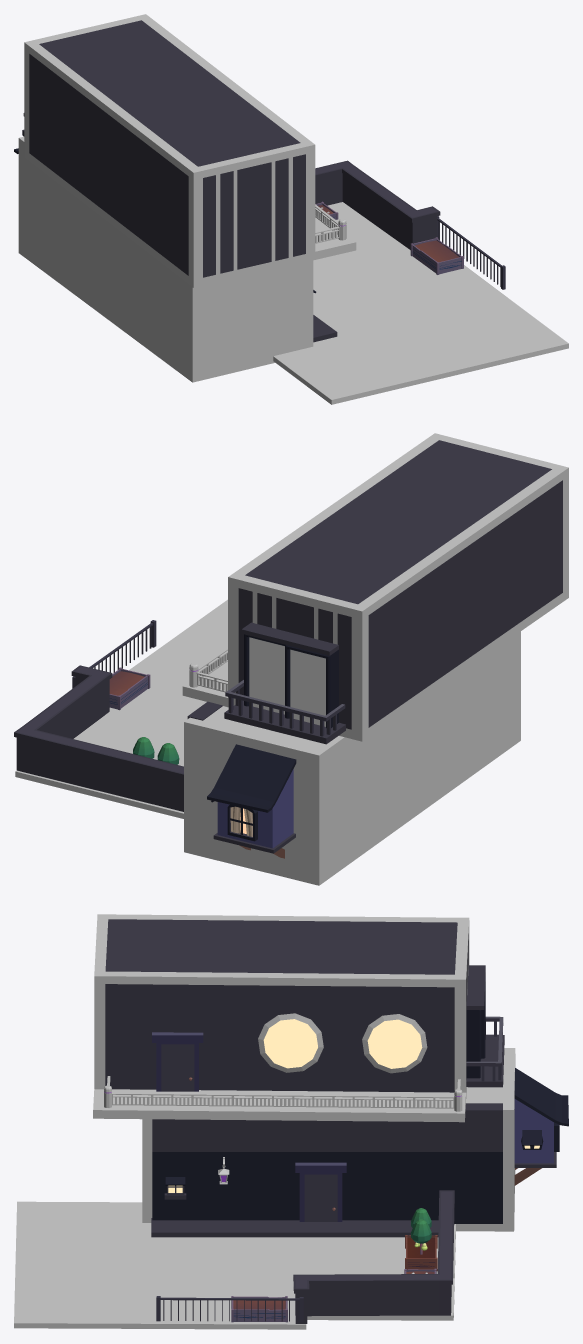
The model's file is CMHome302.fbx.
3 renders of one model, top to bottom at view 1: azimuth 30°, elevation 25°; view 2: azimuth 150°, elevation 25°; view 3: azimuth 270°, elevation 25°, orthographic. The views are drawn at different scales.
Parts seen in each view (by area): view 1: Crates.088, Crates.089, ConcreteSlab.001, Fence.017, Garden.002, BalconyRailing.041; view 2: Crates.088, Crates.089, Fence.017, Balconet.004, ConcreteSlab.001, BuildingAddons.009, Garden.002, BalconyRailing.041, PearBerns; view 3: Crates.088, HomeFacade.007, ConcreteSlab.001, Fence.017, Window.128, BuildingAddons.009, Crates.089, Fence.027, Balconet.004, CornerHome_Door.035, CornerHome_Door.037, Garden.002 (+5 smaller).
Part boxes in pixels (x1,y1,x2,y2): Crates.088: (24,14,356,287); Crates.089: (18,136,313,382); ConcreteSlab.001: (273,202,568,404); Fence.017: (315,160,440,249); Garden.002: (410,237,463,274); BalconyRailing.041: (437,216,505,289); Crates.088: (182,433,568,741); Crates.089: (184,631,520,885); Fence.017: (14,665,183,811); Balconet.004: (224,622,345,744); ConcreteSlab.001: (15,599,227,818); BuildingAddons.009: (207,744,296,858); Garden.002: (109,667,150,710); BalconyRailing.041: (72,620,156,688); PearBerns: (133,737,179,764); Crates.088: (93,914,469,1122); HomeFacade.007: (151,1103,502,1237); ConcreteSlab.001: (14,1201,455,1329); Fence.017: (293,1190,454,1323); Window.128: (258,1013,427,1073); BuildingAddons.009: (514,1068,568,1185); Crates.089: (142,1048,515,1231); Fence.027: (112,1092,454,1108); Balconet.004: (466,965,504,1087); CornerHome_Door.035: (161,1044,194,1091); CornerHome_Door.037: (304,1174,337,1221); Garden.002: (231,1296,287,1322).
Bounding box in the file's own units: 2724 × 1759 × 3633.
